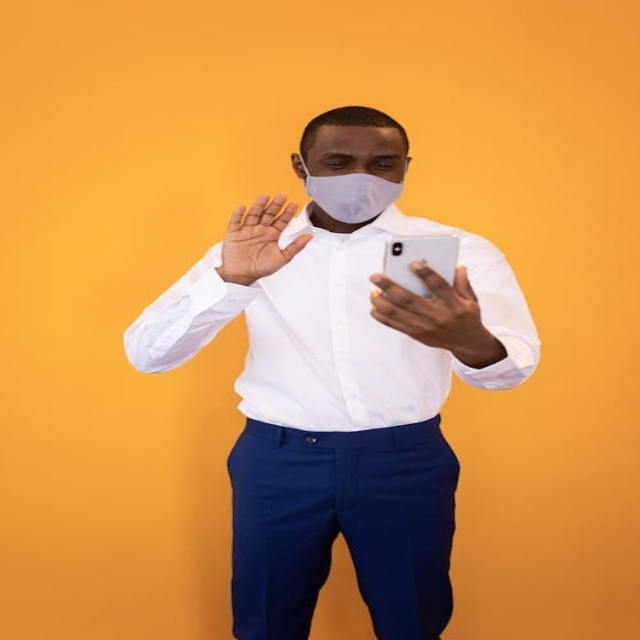Mascara: (302, 157, 405, 223)
Sin_gafas: (325, 161, 349, 168), (373, 162, 394, 169)
Sin_guantes: (367, 259, 488, 350), (219, 192, 313, 285)
